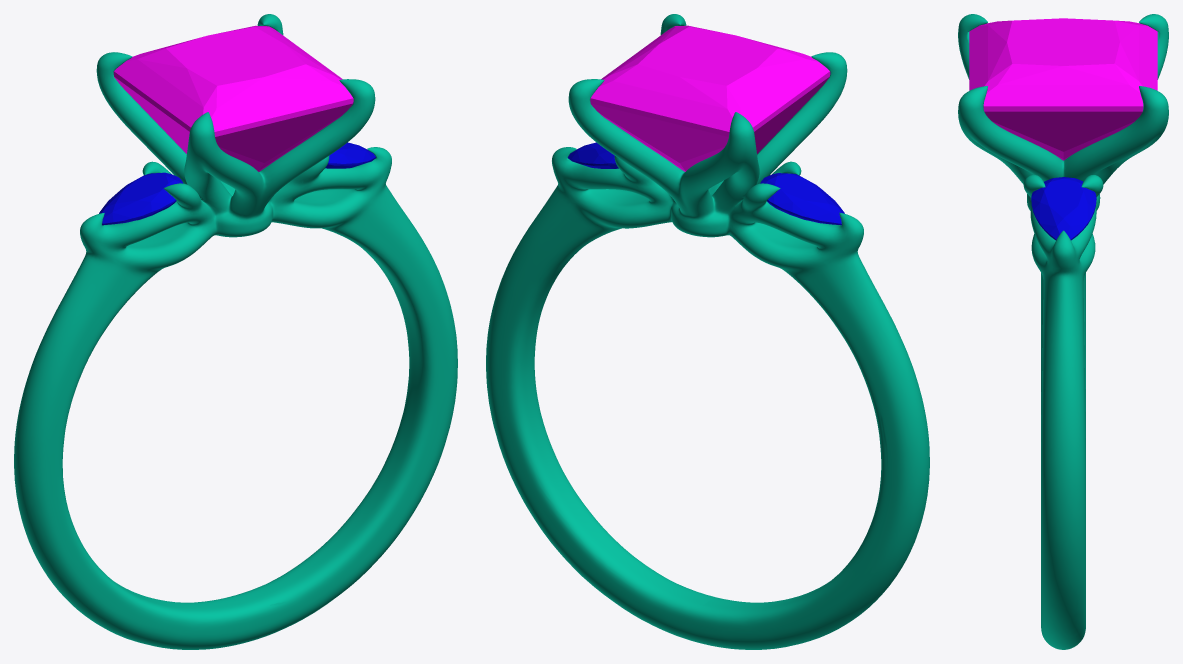
File: BE1D898_PR_200ct_RENDER.glb
3 renders of one model, left to right at view 1: azimuth 30°, elevation 25°; view 2: azimuth 150°, elevation 25°; view 3: azimuth 270°, elevation 25°, orthographic.
Visible parts, largest first — view 1: Metal 01, CS_Diamond_Princess, Diamond_Pear_side, Diamond_Pear_side.001; view 2: Metal 01, CS_Diamond_Princess, Diamond_Pear_side, Diamond_Pear_side.001; view 3: Metal 01, CS_Diamond_Princess, Diamond_Pear_side.001.
Boxes of the visible parts, left/top/right/bottom form: Metal 01: left=14, top=14, right=457, bottom=649; CS_Diamond_Princess: left=113, top=25, right=353, bottom=171; Diamond_Pear_side: left=99, top=172, right=183, bottom=225; Diamond_Pear_side.001: left=325, top=142, right=376, bottom=168; Metal 01: left=486, top=14, right=929, bottom=649; CS_Diamond_Princess: left=590, top=25, right=830, bottom=171; Diamond_Pear_side: left=760, top=173, right=844, bottom=225; Diamond_Pear_side.001: left=567, top=142, right=618, bottom=168; Metal 01: left=958, top=14, right=1168, bottom=649; CS_Diamond_Princess: left=969, top=18, right=1157, bottom=160; Diamond_Pear_side.001: left=1031, top=177, right=1096, bottom=240.
Size of the model in its own units: 20.08 by 25.67 by 8.4.
